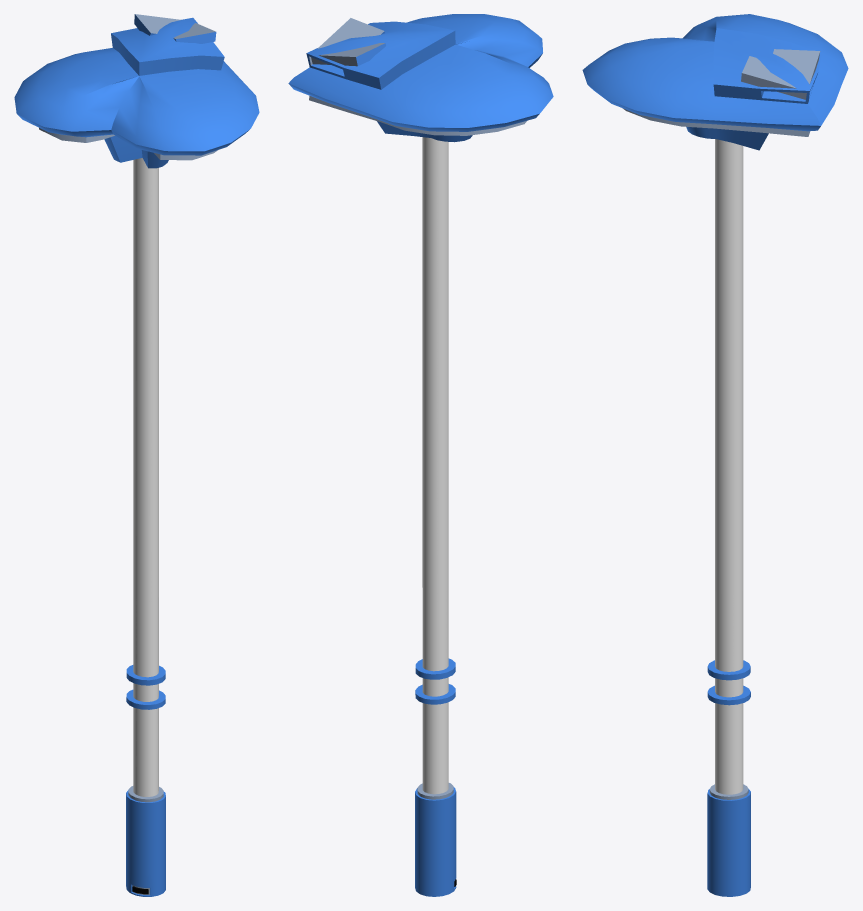
Rendered from HOMING.fbx.
3 renders of one model, left to right at view 1: azimuth 30°, elevation 25°; view 2: azimuth 150°, elevation 25°; view 3: azimuth 270°, elevation 25°, orthographic. The views are drawn at different scales.
Visible parts, largest first — view 1: Sphere, Cylinder_3, Cylinder, Cylinder_2, Cylinder_1; view 2: Sphere, Cylinder_3, Cylinder, Cylinder_2, Cylinder_1; view 3: Sphere, Cylinder_3, Cylinder, Cylinder_2, Cylinder_1.
Part boxes in pixels (x1,y1,x2,y2): Sphere: [14, 14, 259, 168]; Cylinder_3: [133, 158, 158, 601]; Cylinder: [126, 790, 165, 896]; Cylinder_2: [126, 597, 165, 709]; Cylinder_1: [128, 707, 163, 802]; Sphere: [288, 14, 553, 142]; Cylinder_3: [422, 137, 448, 593]; Cylinder: [415, 787, 456, 896]; Cylinder_2: [415, 589, 455, 704]; Cylinder_1: [417, 702, 453, 799]; Sphere: [582, 14, 848, 150]; Cylinder_3: [715, 139, 743, 594]; Cylinder: [707, 788, 750, 896]; Cylinder_2: [707, 590, 750, 705]; Cylinder_1: [709, 703, 748, 799].
Bounding box in the file's own units: 83.13 × 309 × 87.34.
